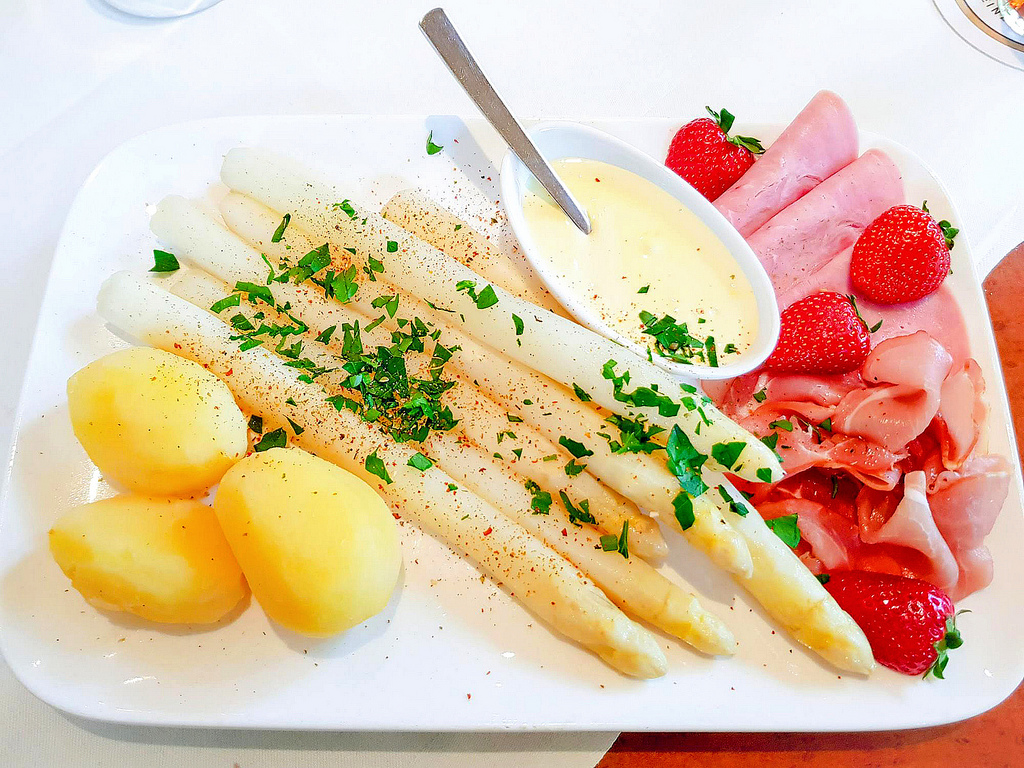boiled potatoes: (221, 446, 404, 647), (47, 495, 250, 633), (57, 351, 257, 486)
